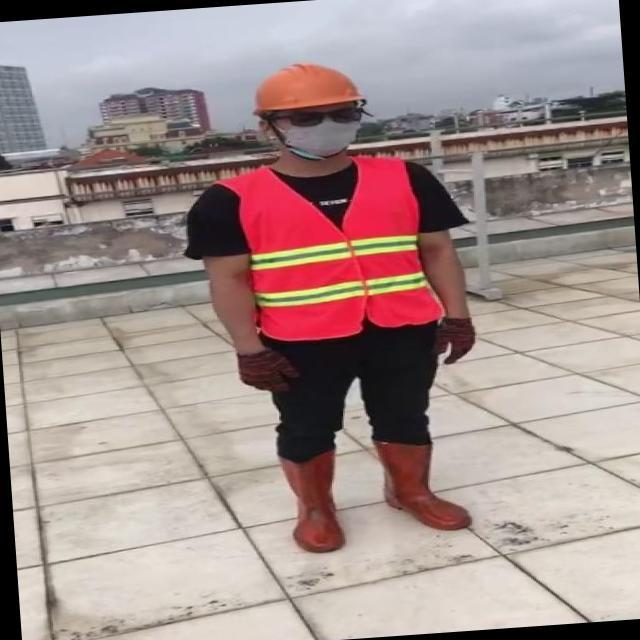Gloves: (233, 348, 300, 395), (429, 315, 480, 365)
Helmet: (242, 52, 373, 117)
Human: (168, 41, 503, 563)
Safety Boot: (373, 430, 474, 534), (274, 448, 351, 555)
Safety Vest: (233, 155, 435, 345)
